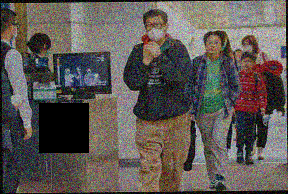with_mask: (144, 19, 166, 43), (242, 41, 255, 55)
without_mask: (203, 38, 224, 55), (241, 58, 254, 71)
